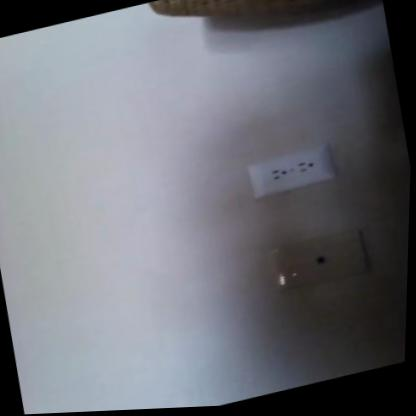OUTLET: (247, 143, 335, 197)
